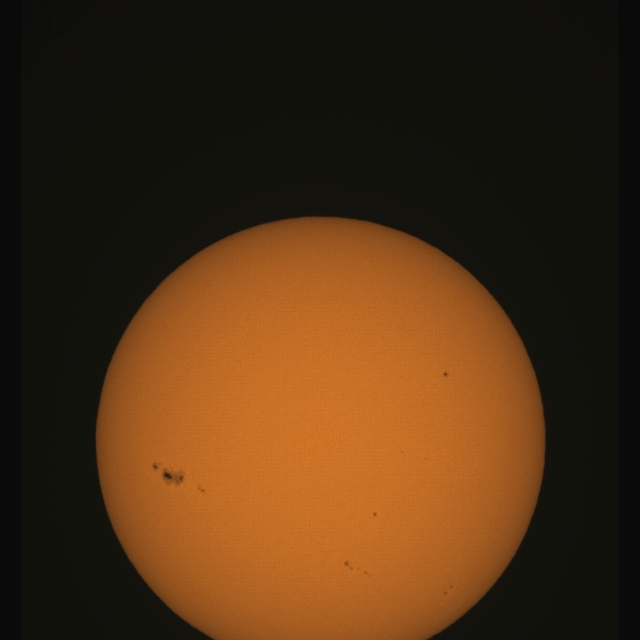sunspot: (152, 461, 186, 488), (343, 560, 373, 578), (443, 584, 454, 596), (196, 483, 206, 494), (344, 560, 354, 570), (442, 370, 450, 379), (372, 511, 378, 518), (400, 449, 405, 455)
